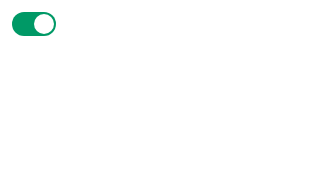
Test: EditionFlagSwitch(reader_full_text) › forbiddenFromTheEndpointShowsAnError
Click the switch named "Full text for NABRE": (34, 24) top-left (12, 12), bottom-right (56, 36)
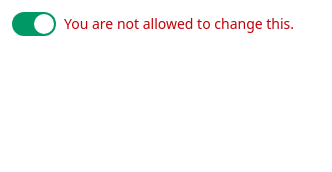
Check: the message reads "You are not allowed to change this.", box top-left (64, 14), bottom-right (294, 33)
